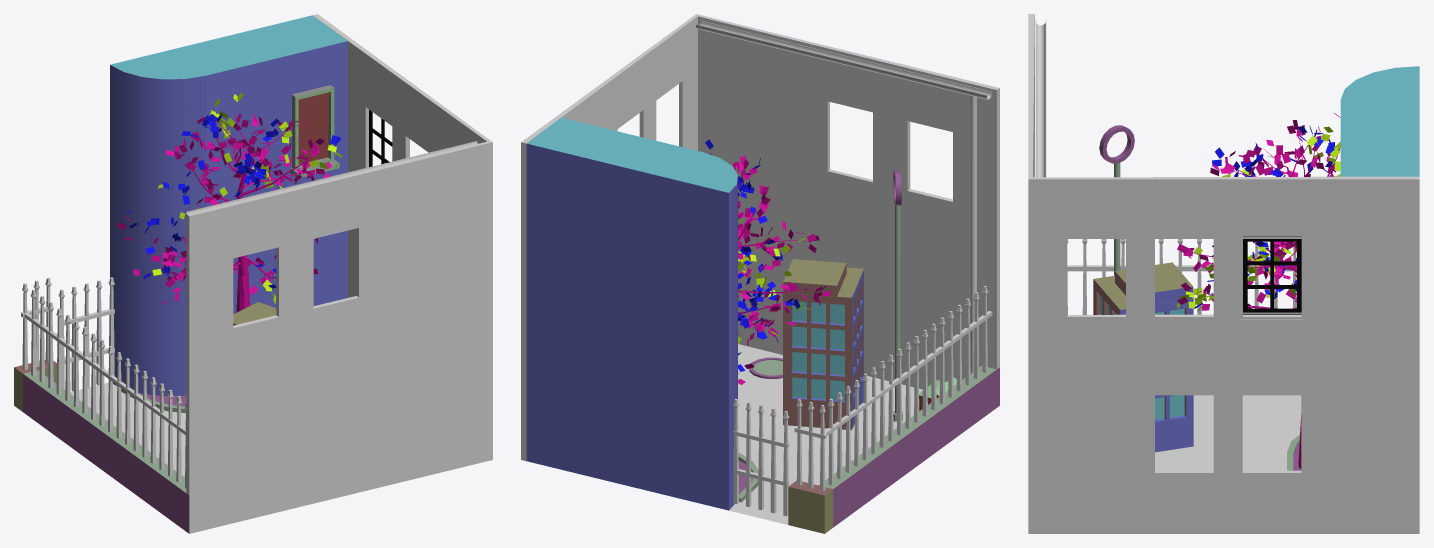
Rendered from Arriere_cour.FBX.
3 renders of one model, left to right at view 1: azimuth 30°, elevation 25°; view 2: azimuth 150°, elevation 25°; view 3: azimuth 270°, elevation 25°, orthographic. The views are drawn at different scales.
Parts seen in each view (by area): view 1: mur_cour, mur cour arrondi, Grillage, mur cour, Foliage001, muret, fenetre07, sol003, Cylinder034, Cabine; view 2: mur cour arrondi, mur_cour, Grillage, Cabine, mur cour, sol003, muret, Foliage001, Cylinder034, Cylinder032, Cylinder033; view 3: mur cour, mur cour arrondi, sol003, Foliage001, Cabine, fenetre03, Grillage, Cylinder034, mur_cour, Cylinder032.
Boxes of the visible parts, x1,y1,x2,y2 form: mur_cour: (186, 141, 492, 533); mur cour arrondi: (14, 15, 347, 411); Grillage: (21, 277, 186, 488); mur cour: (313, 14, 492, 297); Foliage001: (117, 93, 342, 312); muret: (23, 370, 189, 533); fenetre07: (290, 85, 339, 177); sol003: (70, 382, 185, 476); Cylinder034: (186, 141, 477, 213); Cabine: (233, 302, 276, 325); mur cour arrondi: (526, 117, 833, 533); mur_cour: (696, 14, 999, 389); Grillage: (733, 286, 992, 516); Cabine: (783, 259, 863, 430); mur cour: (521, 14, 697, 460); sol003: (729, 344, 922, 524); muret: (818, 366, 999, 527); Foliage001: (705, 139, 831, 384); Cylinder034: (696, 20, 991, 373); Cylinder032: (893, 170, 902, 421); Cylinder033: (749, 357, 782, 378); mur cour: (1028, 176, 1419, 533); mur cour arrondi: (1340, 66, 1419, 176); sol003: (1155, 395, 1301, 470); Foliage001: (1176, 113, 1340, 468); Cabine: (1093, 262, 1193, 452); fenetre03: (1240, 236, 1304, 319); Grillage: (1067, 239, 1296, 314); Cylinder034: (1035, 19, 1046, 177); mur_cour: (1028, 14, 1034, 178); Cylinder032: (1099, 125, 1134, 275).
Bounding box in the file's own units: 600 × 607 × 600.
